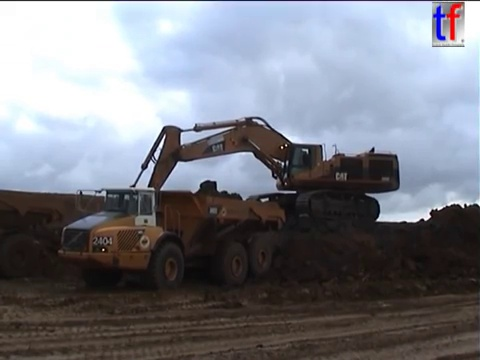excavator: (117, 113, 404, 245)
truck: (55, 180, 290, 293), (1, 185, 154, 284)
